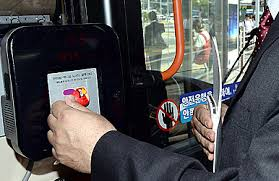terminal: (2, 24, 138, 165)
